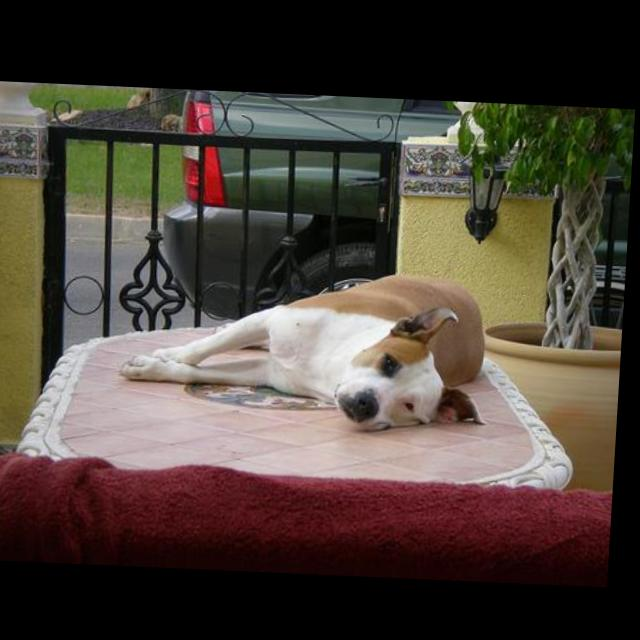amstaff: (122, 261, 499, 434)
